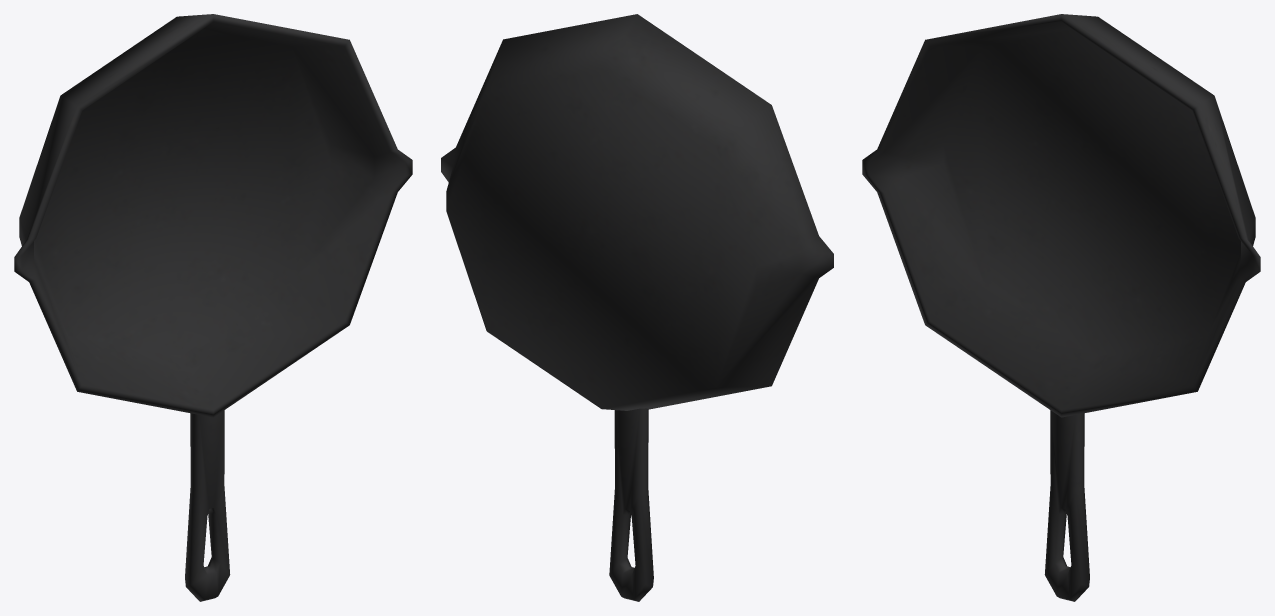
The model's file is frying pan.glb.
The picture shows the model from 3 angles, left to right: view 1: azimuth 30°, elevation 25°; view 2: azimuth 150°, elevation 25°; view 3: azimuth 330°, elevation 25°; orthographic projection.
Parts seen in each view (by area): view 1: mesh; view 2: mesh; view 3: mesh.
Part boxes in pixels (x1,y1,x2,y2): mesh: (14,14,412,601); mesh: (441,14,833,601); mesh: (862,14,1260,601).
Bounding box in the file's own units: 2.07 × 2.93 × 0.3286.
1 material, 1 textured.
